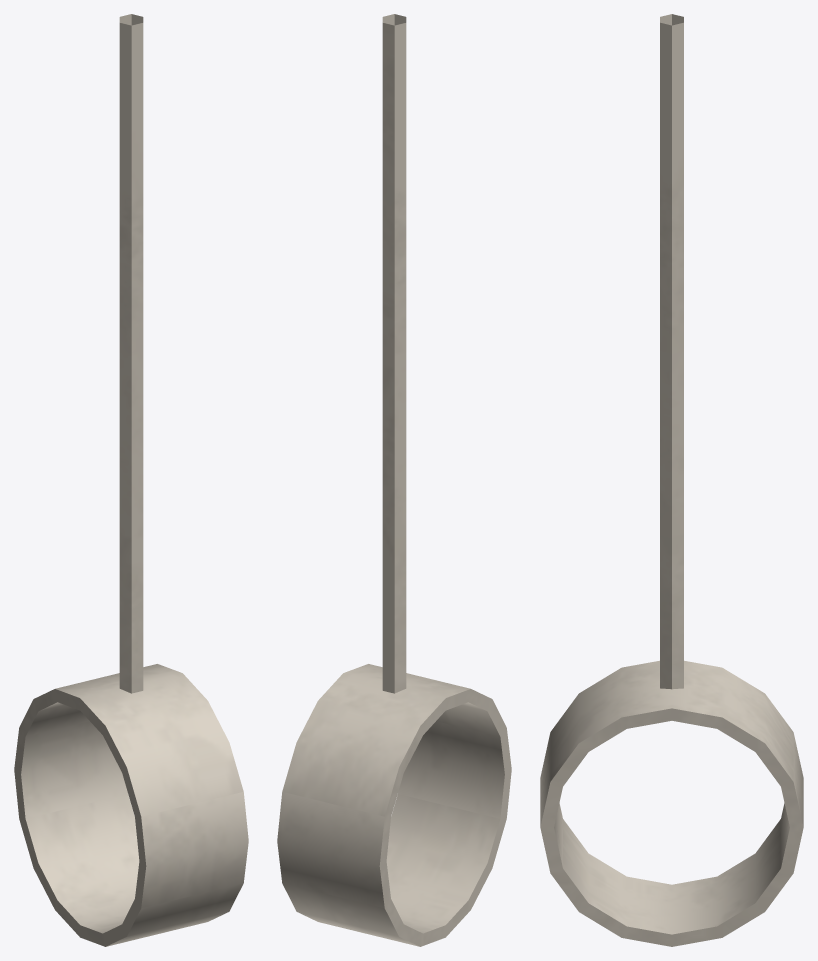
File: pipehanger.fbx
3 renders of one model, left to right at view 1: azimuth 30°, elevation 25°; view 2: azimuth 150°, elevation 25°; view 3: azimuth 270°, elevation 25°, orthographic.
Parts seen in each view (by area): view 1: PipeHanger; view 2: PipeHanger; view 3: PipeHanger.
Boxes of the visible parts, x1,y1,x2,y2 form: PipeHanger: (14,14,248,946); PipeHanger: (277,14,511,946); PipeHanger: (540,14,803,946).
Size of the model in its own units: 0.1596 by 1.35 by 0.356.
